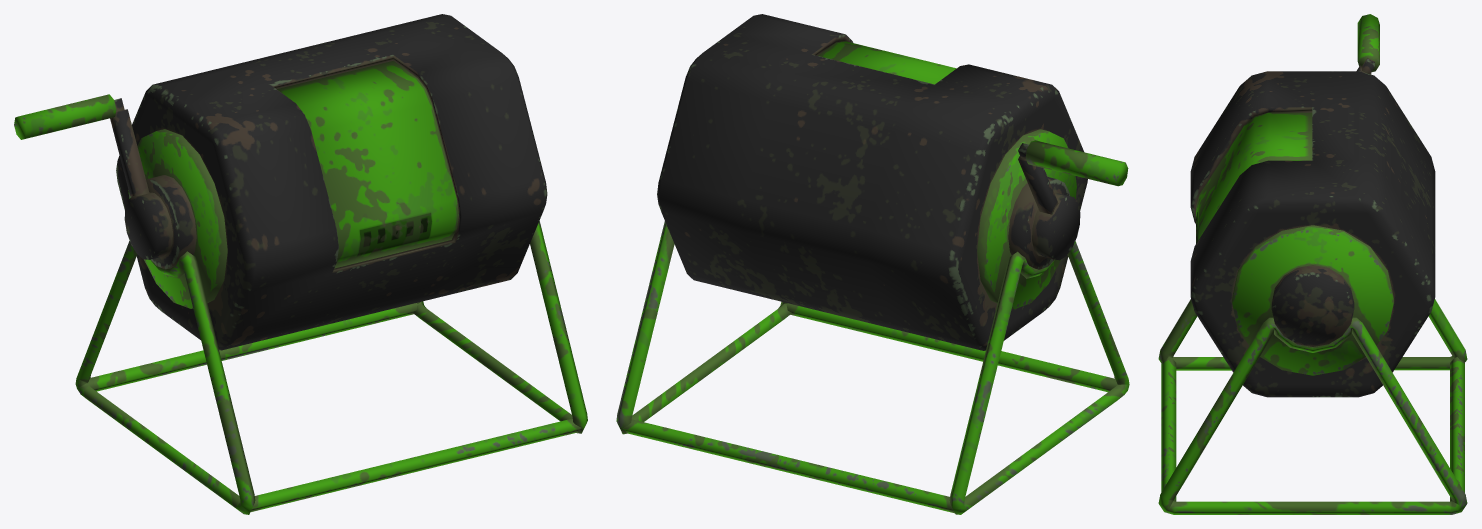
The model's file is sm_compost_bin.gltf.
3 views of the same model, side by side, from view 1: azimuth 30°, elevation 25°; view 2: azimuth 150°, elevation 25°; view 3: azimuth 270°, elevation 25° (orthographic). The views are drawn at different scales.
Parts seen in each view (by area): view 1: sm_compost_bin, sm_legs, sm_door; view 2: sm_compost_bin, sm_legs, sm_door; view 3: sm_compost_bin, sm_legs, sm_door.
Part boxes in pixels (box(x1,y1,x2,y2)): sm_compost_bin: box(14, 14, 547, 350); sm_legs: box(75, 221, 587, 514); sm_door: box(277, 60, 458, 268); sm_compost_bin: box(657, 14, 1128, 350); sm_legs: box(616, 221, 1129, 514); sm_door: box(818, 41, 956, 84); sm_compost_bin: box(1190, 14, 1435, 397); sm_legs: box(1158, 299, 1467, 514); sm_door: box(1196, 112, 1312, 243).
Bounding box in the file's own units: 1.25 × 0.9088 × 0.8246.
1 material, 1 textured.
